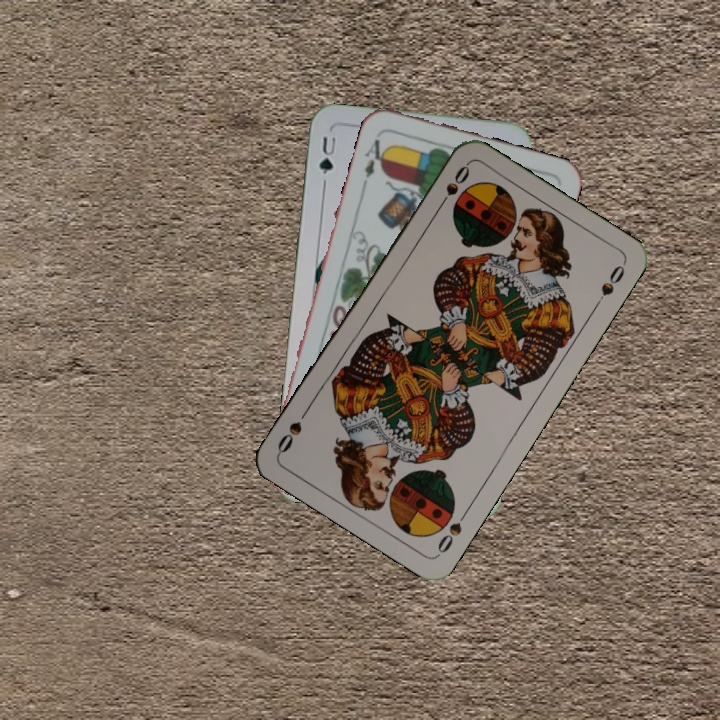EA: (359, 135, 391, 188)
GU: (315, 130, 339, 177)
SO: (433, 161, 473, 213), (433, 505, 472, 558)
